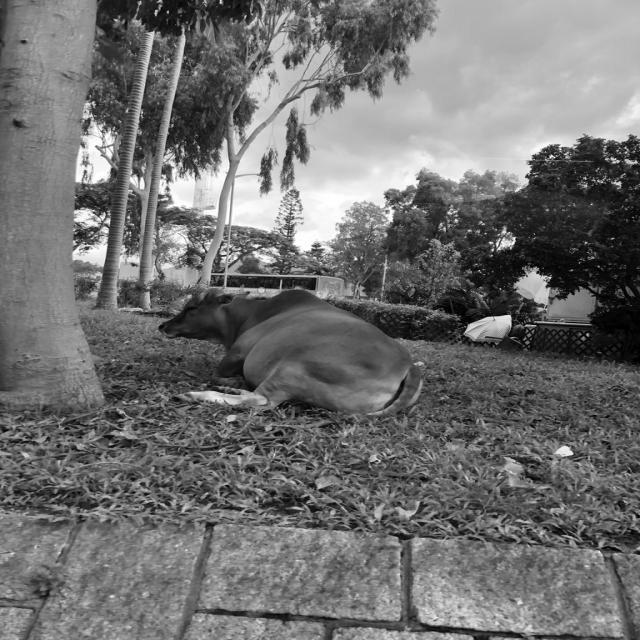cow: (160, 289, 422, 414)
